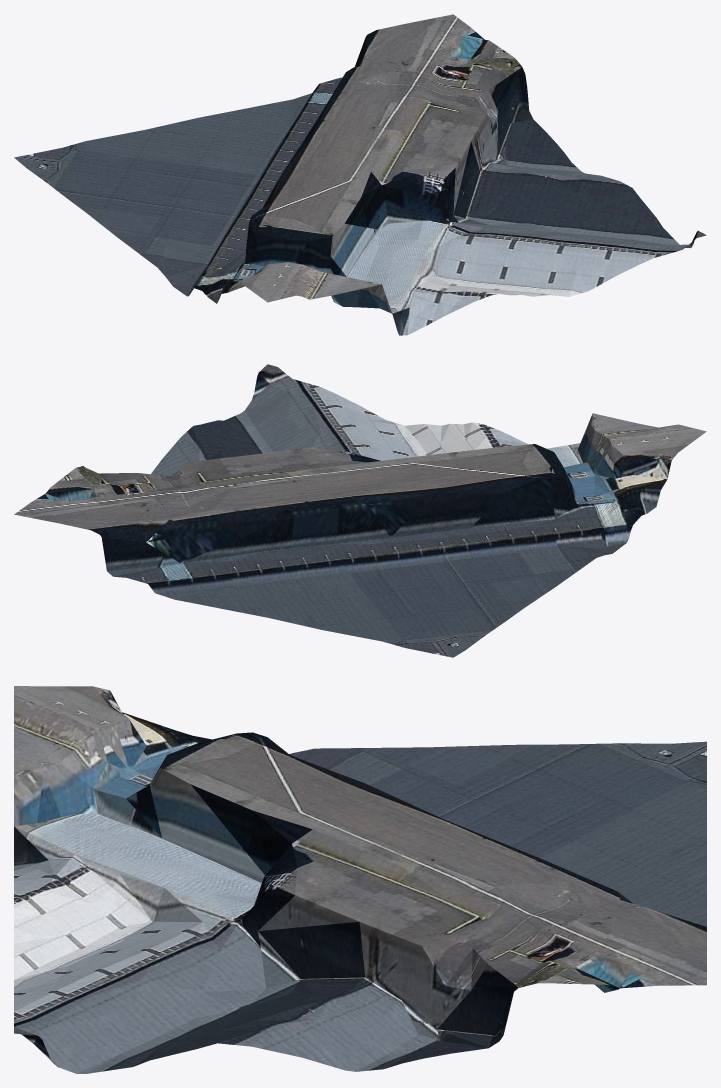
Rendered from map_15_8185_13784.dae.
3 renders of one model, top to bottom at view 1: azimuth 30°, elevation 25°; view 2: azimuth 150°, elevation 25°; view 3: azimuth 270°, elevation 25°, orthographic. The views are drawn at different scales.
Visible parts, largest first — view 1: Ter0; view 2: Ter0; view 3: Ter0.
Boxes of the visible parts, x1,y1,x2,y2 form: Ter0: [14, 14, 706, 335]; Ter0: [14, 364, 706, 657]; Ter0: [14, 686, 706, 1073].
Bounding box in the file's own units: 63.87 × 63.88 × 9.73.
4 materials, 4 textured.
